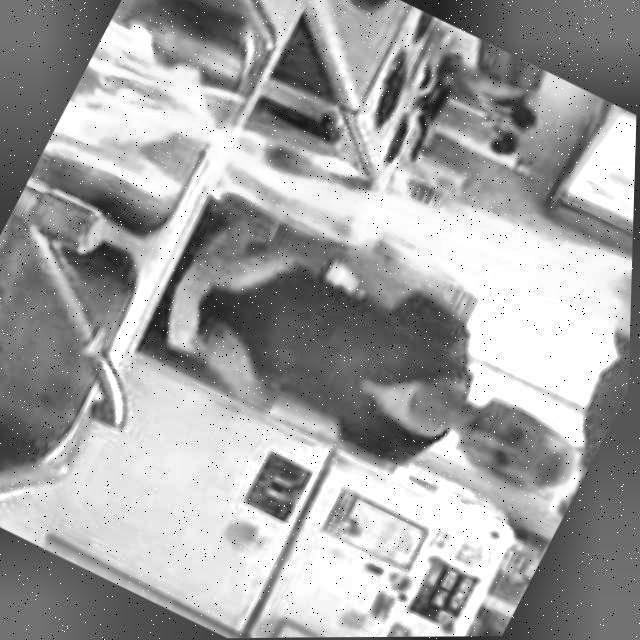Fire: (37, 0, 640, 427)
